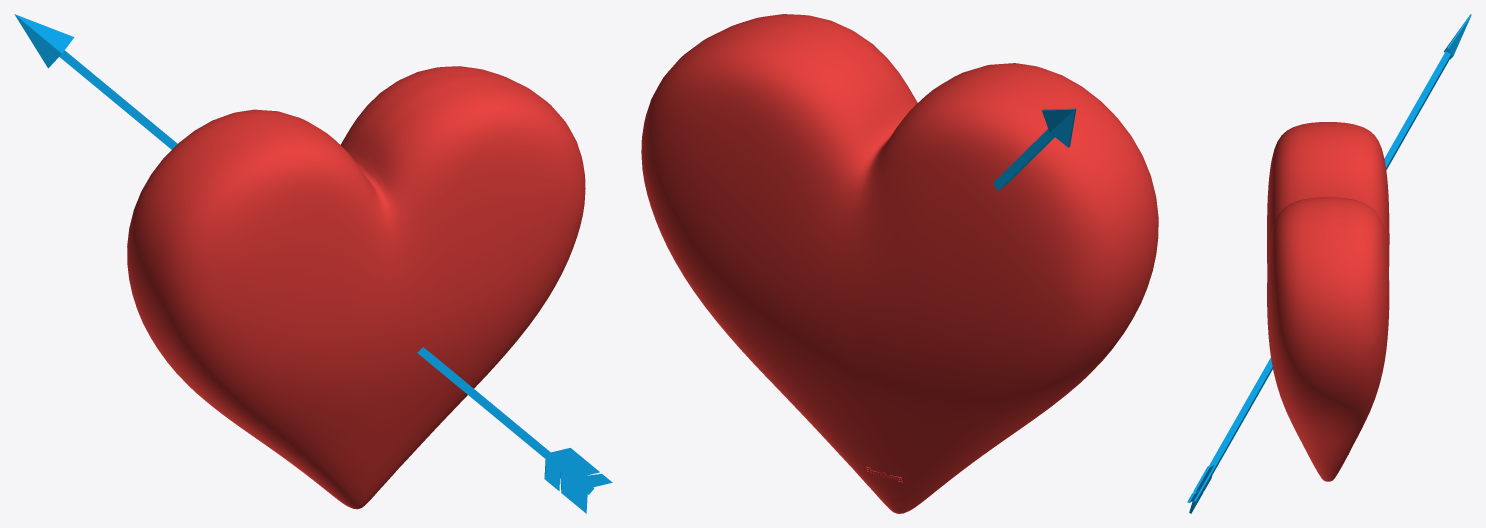
File: heart_with_arrow.glb
3 views of the same model, side by side, from view 1: azimuth 30°, elevation 25°; view 2: azimuth 150°, elevation 25°; view 3: azimuth 270°, elevation 25° (orthographic). The views are drawn at different scales.
Parts seen in each view (by area): view 1: hfdjkslfjkds.002, Cube.009; view 2: hfdjkslfjkds.002, Cube.009; view 3: hfdjkslfjkds.002, Cube.009.
Part boxes in pixels (x1=…): hfdjkslfjkds.002: x1=127, y1=66, x2=585, y2=509; Cube.009: x1=14, y1=14, x2=612, y2=513; hfdjkslfjkds.002: x1=641, y1=14, x2=1158, y2=513; Cube.009: x1=993, y1=108, x2=1076, y2=190; hfdjkslfjkds.002: x1=1267, y1=122, x2=1389, y2=481; Cube.009: x1=1187, y1=14, x2=1471, y2=513.
Bounding box in the file's own units: 2 × 2 × 1.38.
Materials: 1 (1 with a texture image).
